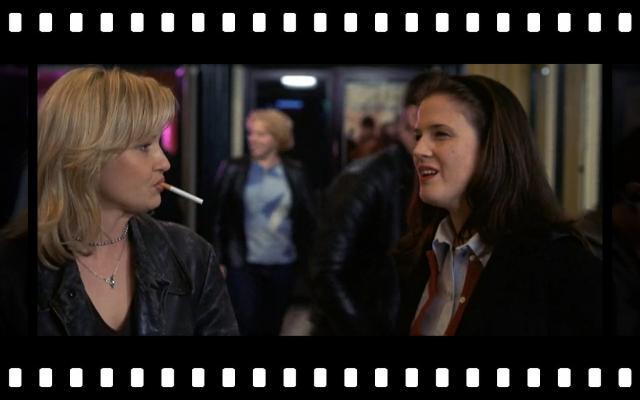SafeDriving: (428, 122, 456, 144)
Smoking: (164, 177, 206, 209)
